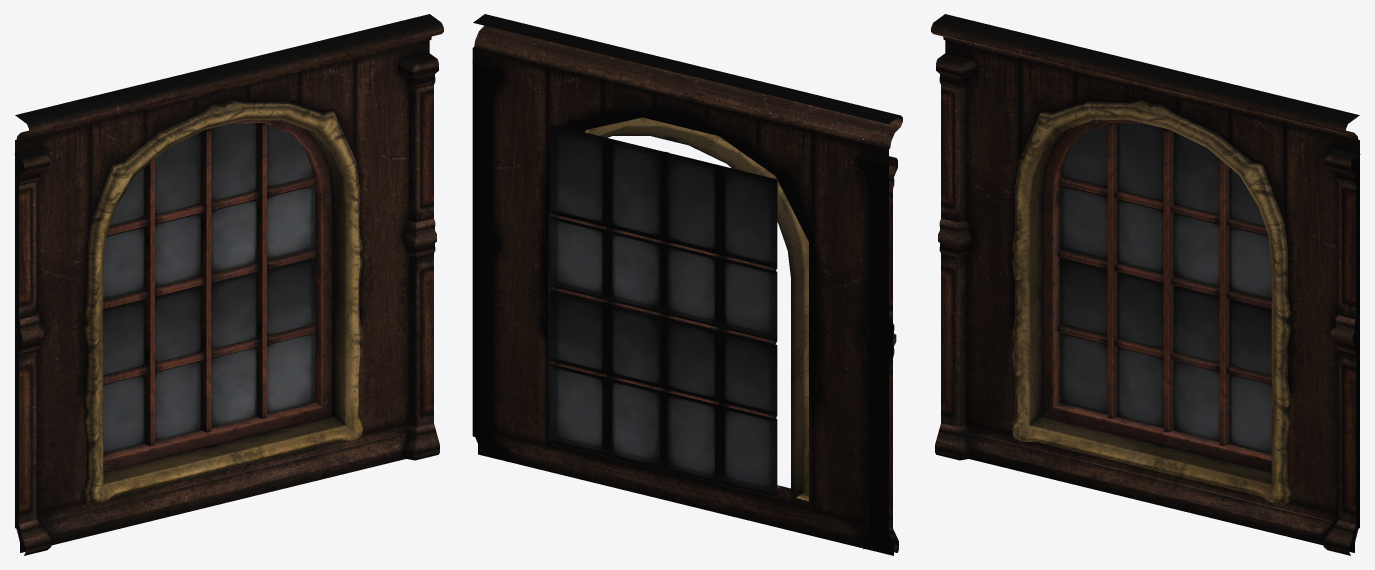
Rendered from window02_large_blue.dae.
3 renders of one model, left to right at view 1: azimuth 30°, elevation 25°; view 2: azimuth 150°, elevation 25°; view 3: azimuth 330°, elevation 25°, orthographic.
Parts seen in each view (by area): view 1: window02_large_blue1, window02_large_frame3, window02_large_glass_yellow5; view 2: window02_large_blue1, window02_large_glass_yellow5, window02_large_frame3; view 3: window02_large_blue1, window02_large_frame3, window02_large_glass_yellow5.
Part boxes in pixels (x1,y1,x2,y2): window02_large_blue1: (14,14,443,555); window02_large_frame3: (82,100,363,504); window02_large_glass_yellow5: (103,123,315,454); window02_large_blue1: (472,14,902,555); window02_large_glass_yellow5: (550,124,777,496); window02_large_frame3: (540,110,820,514); window02_large_blue1: (931,14,1360,555); window02_large_frame3: (1011,100,1292,504); window02_large_glass_yellow5: (1059,123,1271,454).
Size of the model in its own units: 4 by 4 by 0.5209.
